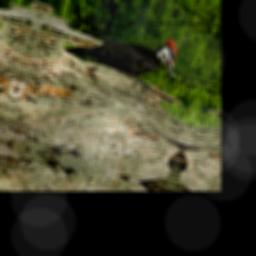Woodpecker: (56, 9, 186, 103)
